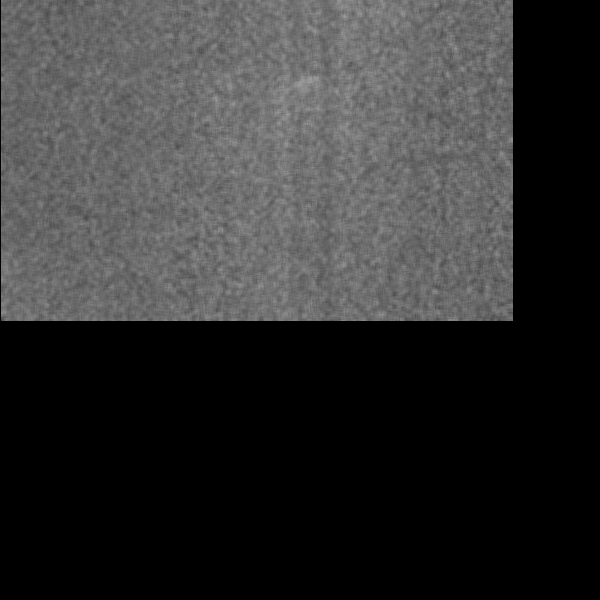spark: (288, 69, 315, 105)
